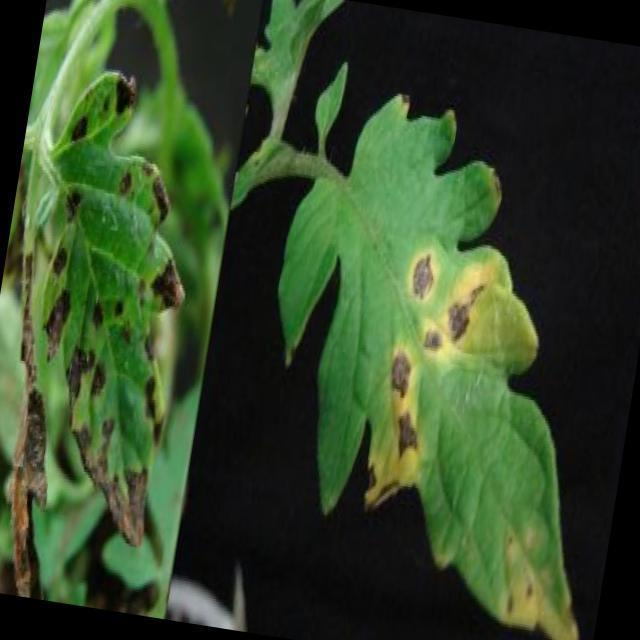Bacterial Spot: (19, 64, 210, 436), (358, 240, 493, 478)
